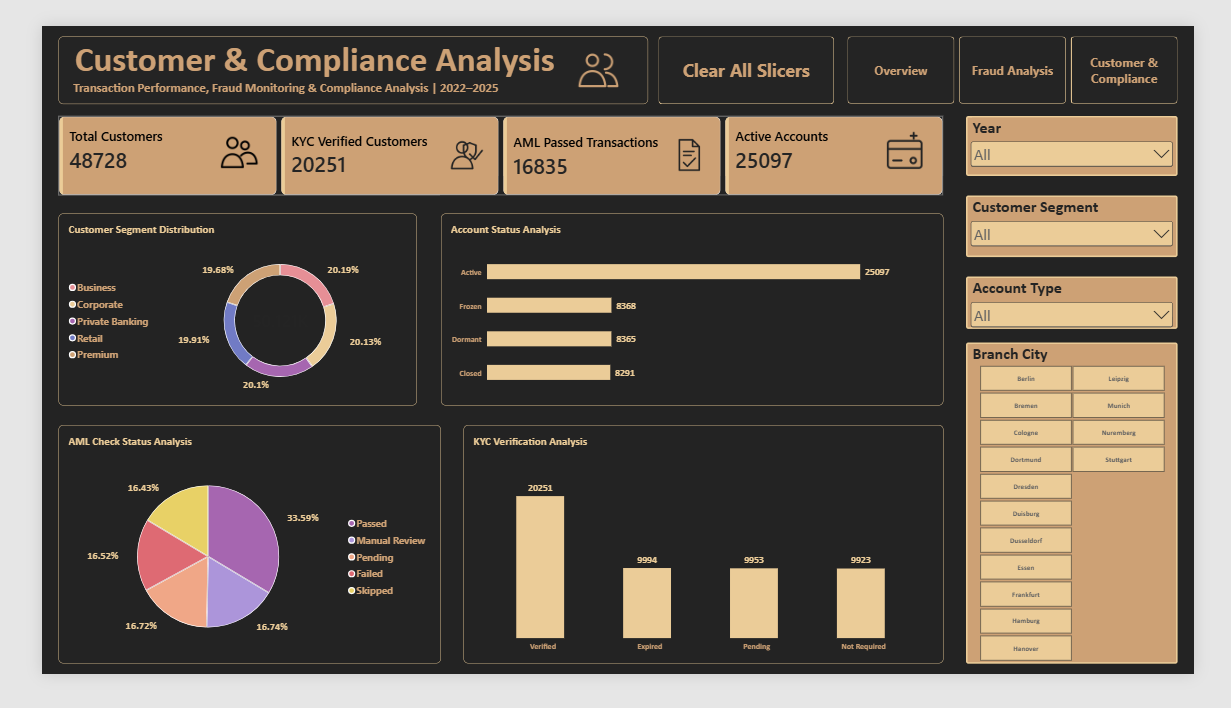

The dashboard page shown, as its layout file describes it:
{"tool":"powerbi","page":{"name":"Customer & Compliance","canvas":[1920,1080],"ordinal":2},"visuals":[{"type":"cardVisual","fields":{"Data":["Banking_Transactions_2022_2025.Total Customers","Banking_Transactions_2022_2025.KYC Verified Customers","Banking_Transactions_2022_2025.AML Passed Transactions","Banking_Transactions_2022_2025.Active Accounts"]},"box":[27.5,150,1475,132.5],"z":0},{"type":"textbox","box":[27.5,17.5,982.5,112.5],"z":1000},{"type":"image","box":[800,25,255,100],"z":2000},{"type":"slicer","fields":{"Values":["Banking_Transactions_2022_2025.transaction_date.Variation.Date Hierarchy.Year"]},"box":[1540,150,352.5,100],"z":3000},{"type":"slicer","fields":{"Values":["Banking_Transactions_2022_2025.customer_segment"]},"box":[1540,282.5,352.5,102.5],"z":4000},{"type":"slicer","fields":{"Values":["Banking_Transactions_2022_2025.branch_city"]},"box":[1540,527.5,352.5,535],"z":5000},{"type":"slicer","fields":{"Values":["Banking_Transactions_2022_2025.account_type"]},"box":[1540,417.5,352.5,87.5],"z":6000},{"type":"donutChart","title":"Customer Segment Distribution","fields":{"Category":["Banking_Transactions_2022_2025.customer_segment"],"Y":["CountNonNull(Banking_Transactions_2022_2025.customer_id)"]},"box":[27.5,312.5,597.5,320],"z":8000},{"type":"pieChart","title":"AML Check Status Analysis","fields":{"Category":["Banking_Transactions_2022_2025.aml_check_status"],"Y":["CountNonNull(Banking_Transactions_2022_2025.transaction_id)"]},"box":[27.5,665,637.5,397.5],"z":9000},{"type":"columnChart","title":"KYC Verification Analysis","fields":{"Category":["Banking_Transactions_2022_2025.kyc_status"],"Y":["CountNonNull(Banking_Transactions_2022_2025.transaction_id)"]},"box":[702.5,665,800,397.5],"z":10000},{"type":"barChart","title":"Account Status Analysis","fields":{"Category":["Banking_Transactions_2022_2025.account_status"],"Y":["CountNonNull(Banking_Transactions_2022_2025.account_id)"]},"box":[665,312.5,837.5,320],"z":11000},{"type":"pageNavigator","box":[1342.5,17.5,550,112.5],"z":11001},{"type":"actionButton","box":[1027.5,17.5,292.5,112.5],"z":11002}]}

Visuals, with their boxes in screenshot pixels (x1, y1, x2, y2), scaled from the page's 1920x1080 canvas onto the 1231x708 screenshot:
cardVisual - Banking_Transactions_2022_2025.Total Customers x Banking_Transactions_2022_2025.KYC Verified Customers: <bbox>18, 98, 963, 185</bbox>
textbox: <bbox>18, 11, 648, 85</bbox>
image: <bbox>513, 16, 676, 82</bbox>
slicer - Banking_Transactions_2022_2025.transaction_date.Variation.Date Hierarchy.Year: <bbox>987, 98, 1213, 164</bbox>
slicer - Banking_Transactions_2022_2025.customer_segment: <bbox>987, 185, 1213, 252</bbox>
slicer - Banking_Transactions_2022_2025.branch_city: <bbox>987, 346, 1213, 697</bbox>
slicer - Banking_Transactions_2022_2025.account_type: <bbox>987, 274, 1213, 331</bbox>
"Customer Segment Distribution" donutChart: <bbox>18, 205, 401, 415</bbox>
"AML Check Status Analysis" pieChart: <bbox>18, 436, 426, 697</bbox>
"KYC Verification Analysis" columnChart: <bbox>450, 436, 963, 697</bbox>
"Account Status Analysis" barChart: <bbox>426, 205, 963, 415</bbox>
pageNavigator: <bbox>861, 11, 1213, 85</bbox>
actionButton: <bbox>659, 11, 846, 85</bbox>
